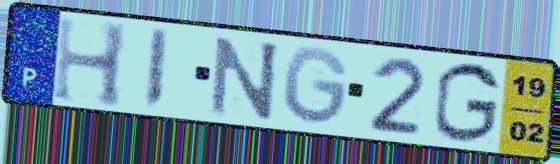2: (367, 55, 427, 139)
G: (431, 59, 503, 145), (282, 44, 352, 128)
H: (49, 13, 131, 110)
I: (140, 26, 171, 112)
N: (208, 34, 282, 121)
